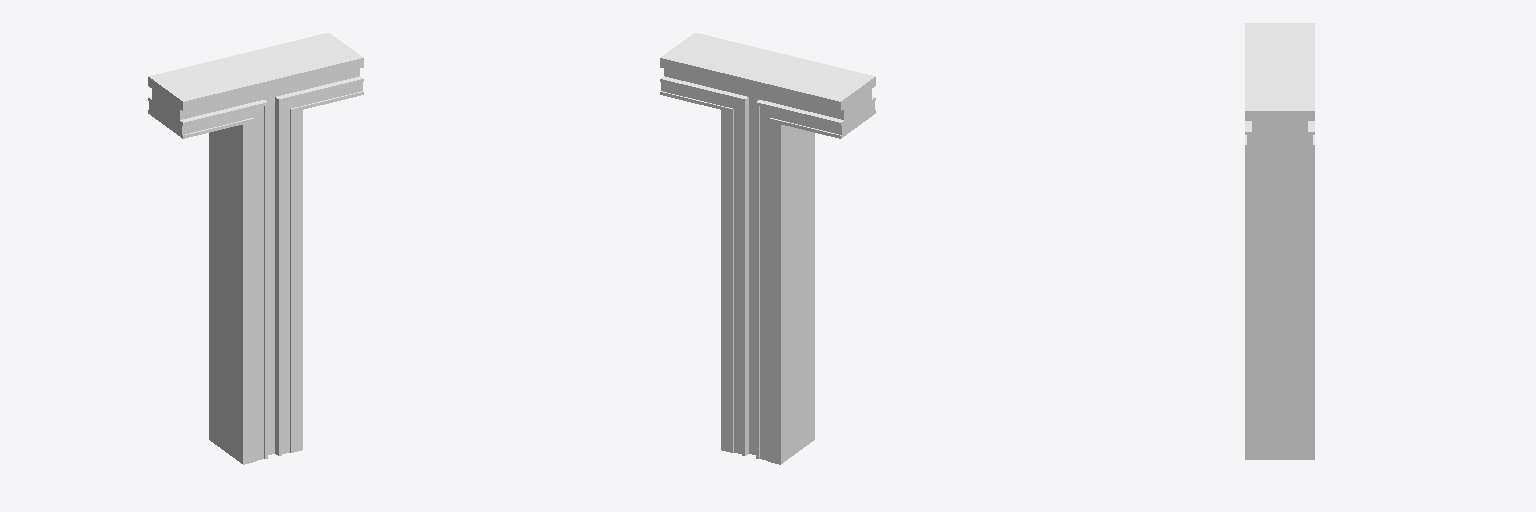
File: TestLayout2-1.obj
3 views of the same model, side by side, from view 1: azimuth 30°, elevation 25°; view 2: azimuth 150°, elevation 25°; view 3: azimuth 270°, elevation 25° (orthographic).
Parts seen in each view (by area): view 1: object 1; view 2: object 1; view 3: object 1.
Boxes of the visible parts, x1=… form: object 1: x1=148, y1=33, x2=363, y2=464; object 1: x1=660, y1=33, x2=875, y2=464; object 1: x1=1245, y1=23, x2=1314, y2=459.
Size of the model in its own units: 11.7 by 23.4 by 3.9.